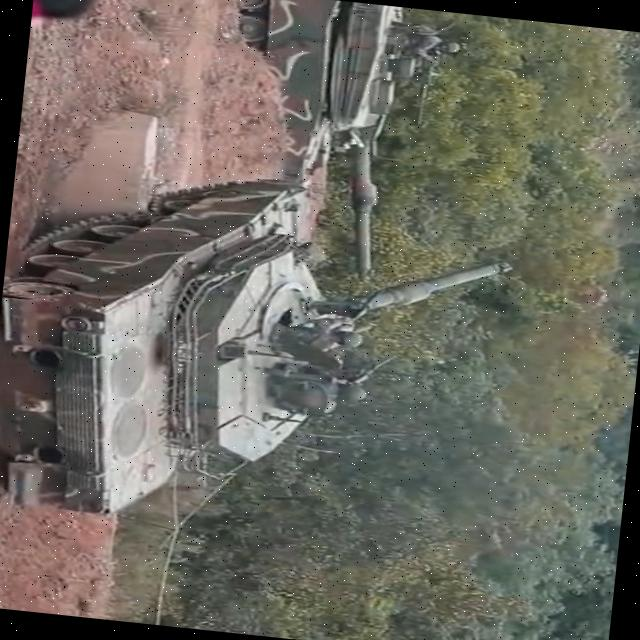korea tank: (0, 151, 518, 554)
